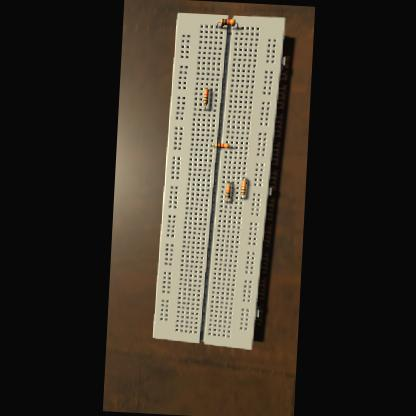breadboard: (152, 10, 287, 349)
resistor: (220, 16, 234, 24), (202, 87, 208, 104), (224, 183, 230, 197), (240, 180, 246, 194), (214, 142, 229, 147)
wire: (216, 20, 219, 26), (204, 102, 205, 108), (211, 143, 214, 145), (235, 21, 236, 27), (240, 194, 242, 197), (228, 145, 230, 147), (242, 177, 244, 179), (225, 198, 226, 200), (227, 181, 228, 183), (206, 86, 207, 87)
